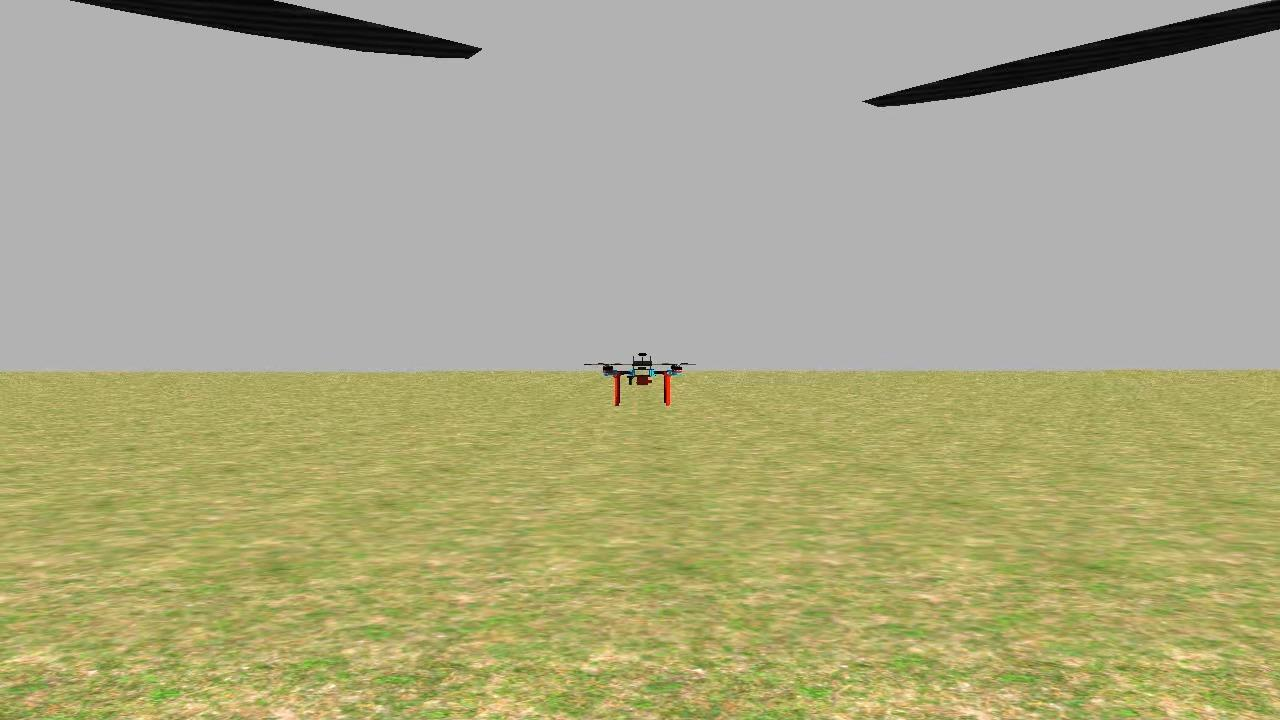UAV: (589, 342, 690, 412)
